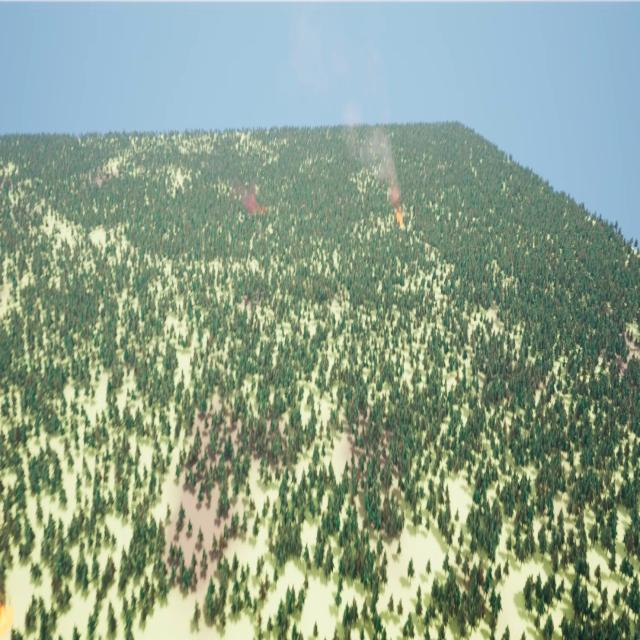fire: (398, 209, 407, 233)
smoke: (290, 3, 404, 213), (238, 182, 262, 214)
